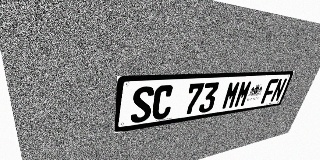3: (198, 82, 220, 113)
7: (182, 83, 205, 116)
C: (151, 85, 175, 121)
F: (260, 79, 279, 104)
M: (221, 81, 242, 110), (233, 80, 253, 108)
N: (270, 78, 288, 102)
S: (130, 86, 155, 124)
